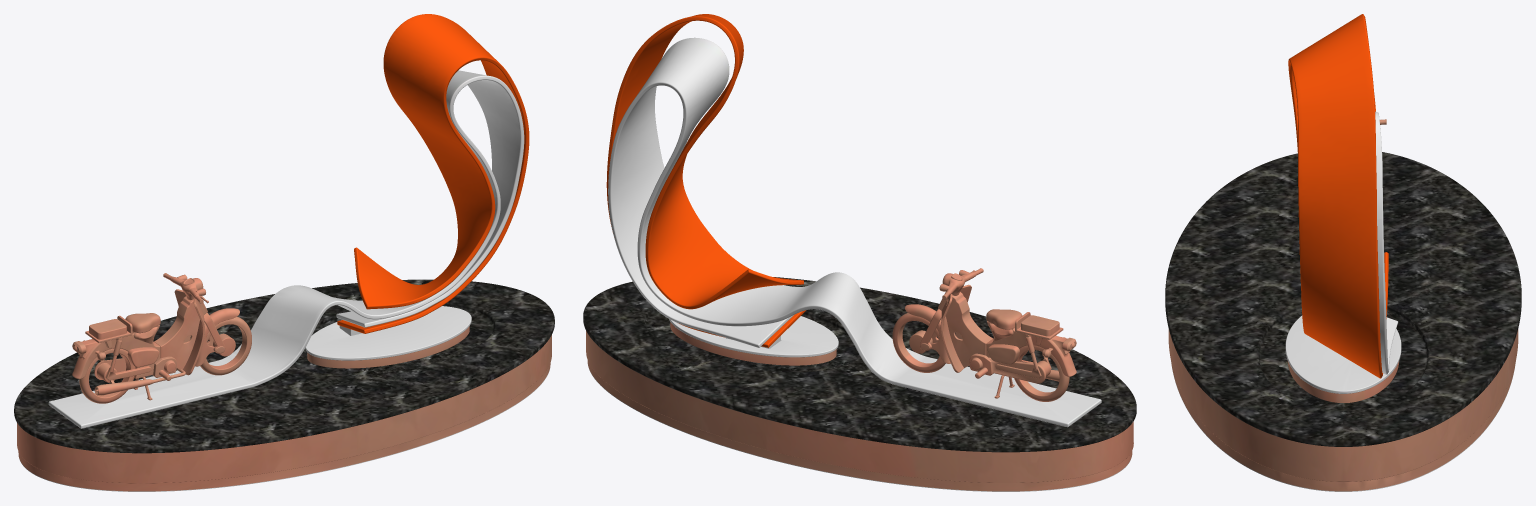
The picture shows the model from 3 angles, left to right: view 1: azimuth 30°, elevation 25°; view 2: azimuth 150°, elevation 25°; view 3: azimuth 270°, elevation 25°; orthographic projection. The views are drawn at different scales.
Parts seen in each view (by area): view 1: Object008; view 2: Object008; view 3: Object008.
Boxes of the visible parts, bbox=[...] form: Object008: bbox=[14, 14, 554, 491]; Object008: bbox=[583, 14, 1136, 491]; Object008: bbox=[1165, 14, 1521, 491].
Size of the model in its own units: 41.1 by 26.72 by 21.1.
Materials: 1 (1 with a texture image).
